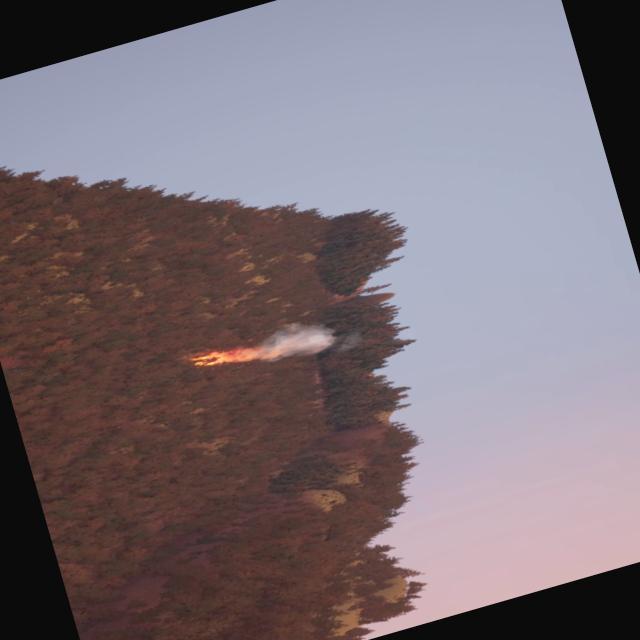fire: (184, 340, 256, 376)
smoke: (258, 312, 344, 366)
